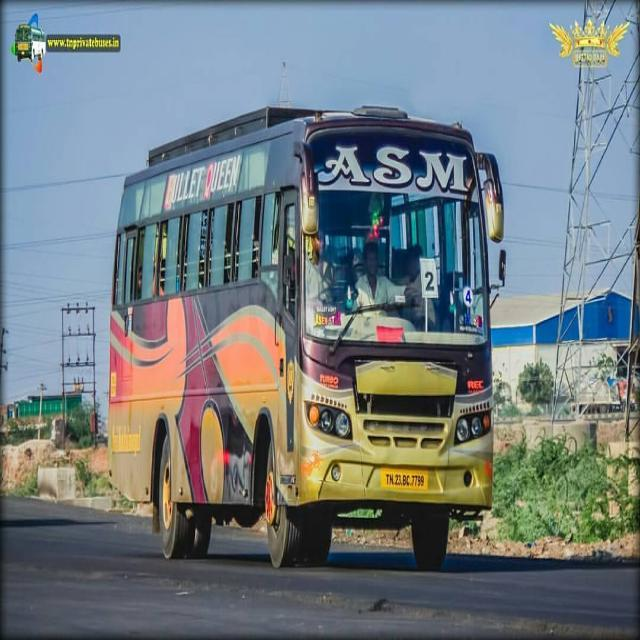Bus: (107, 100, 509, 568)
